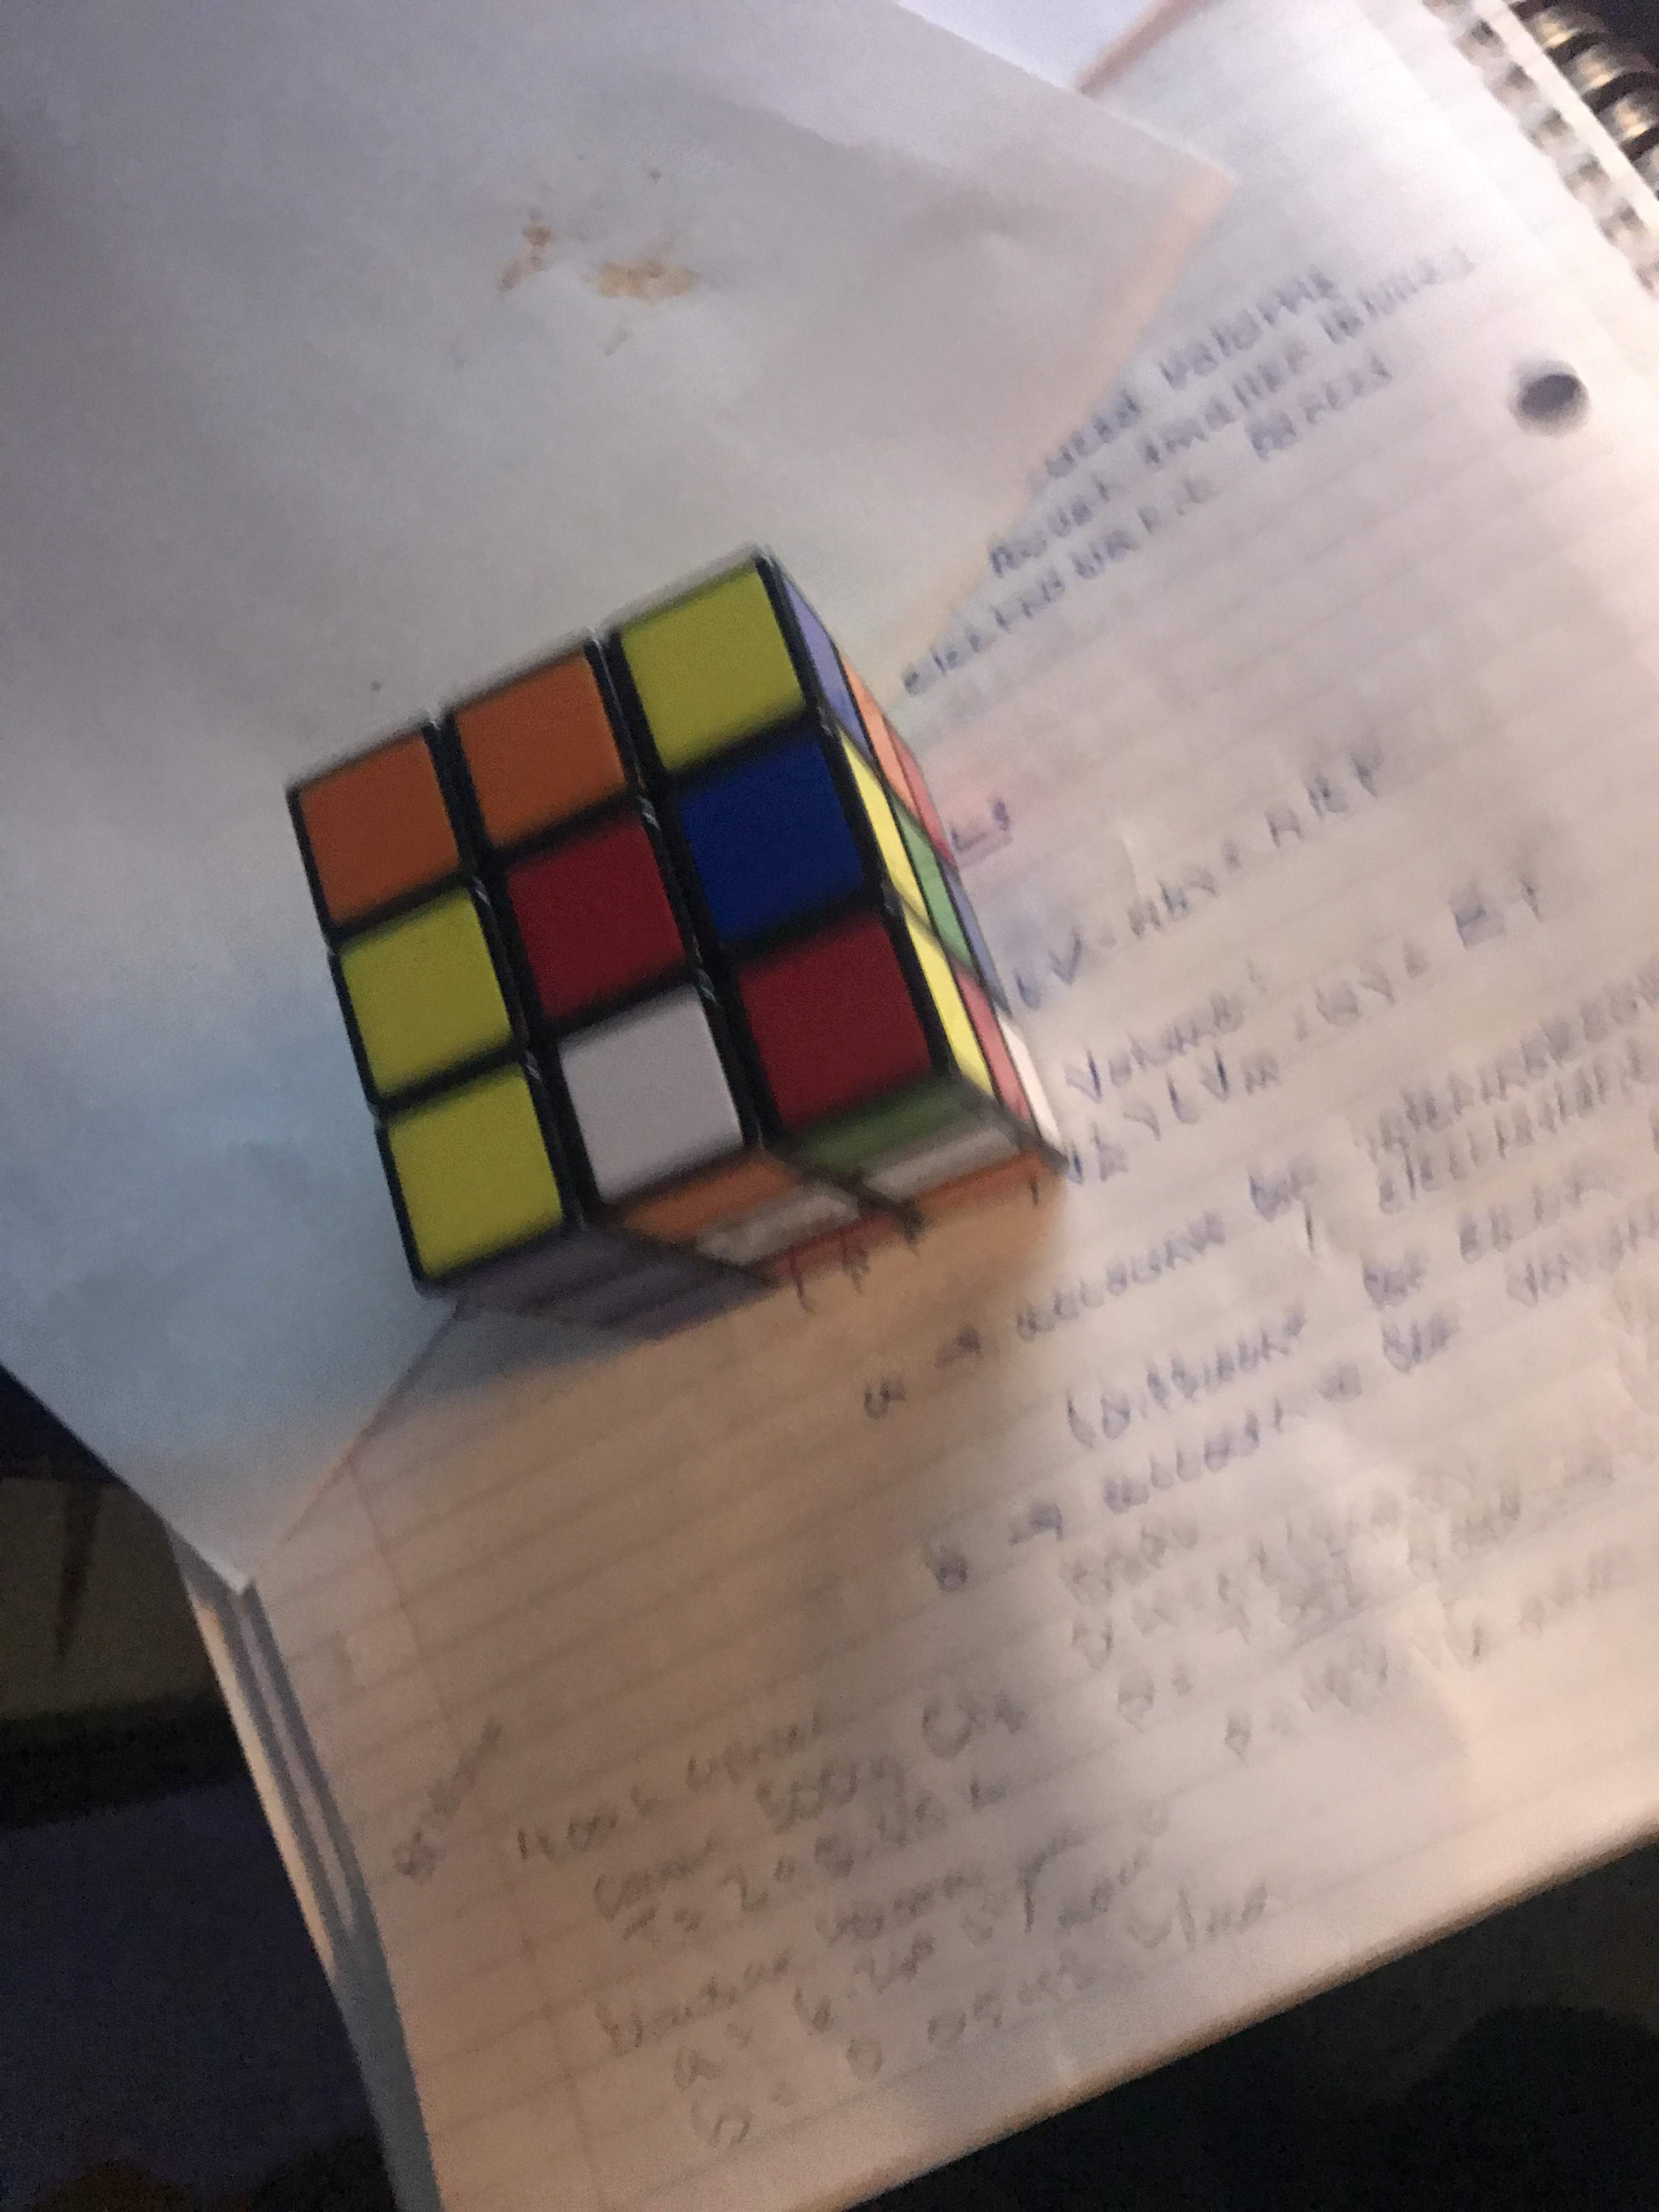rubiks: (291, 547, 1072, 1350)
